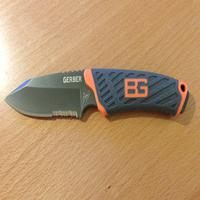knife: (4, 66, 191, 135)
